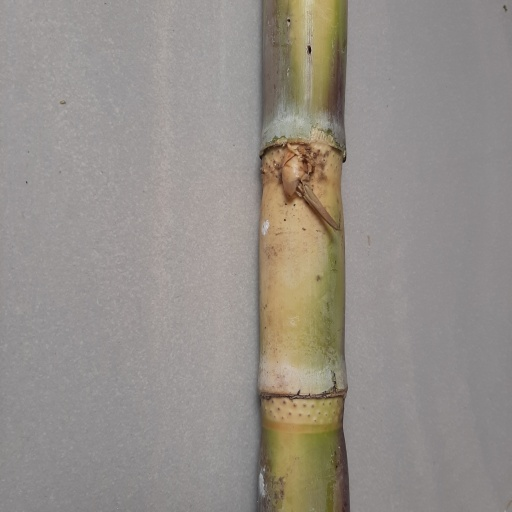Sprouted_Bud: (278, 149, 317, 207)
